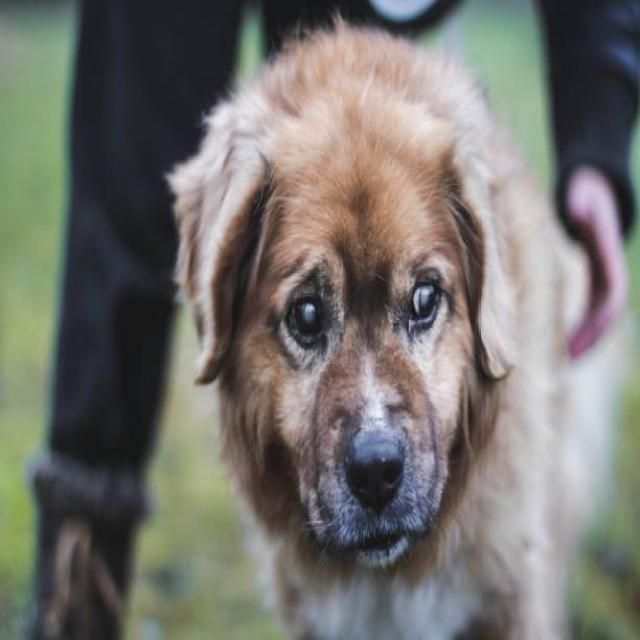eye: (285, 288, 332, 350), (404, 271, 443, 336)
